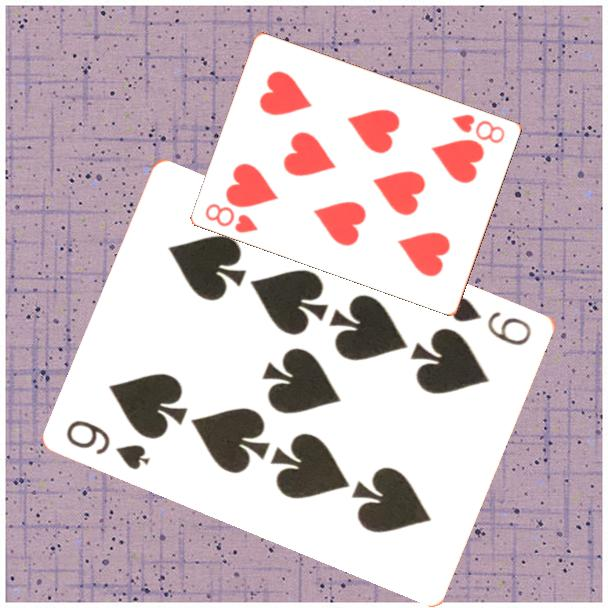h08: (449, 110, 508, 146), (202, 200, 261, 236)
s09: (63, 416, 154, 473), (445, 293, 535, 349)
